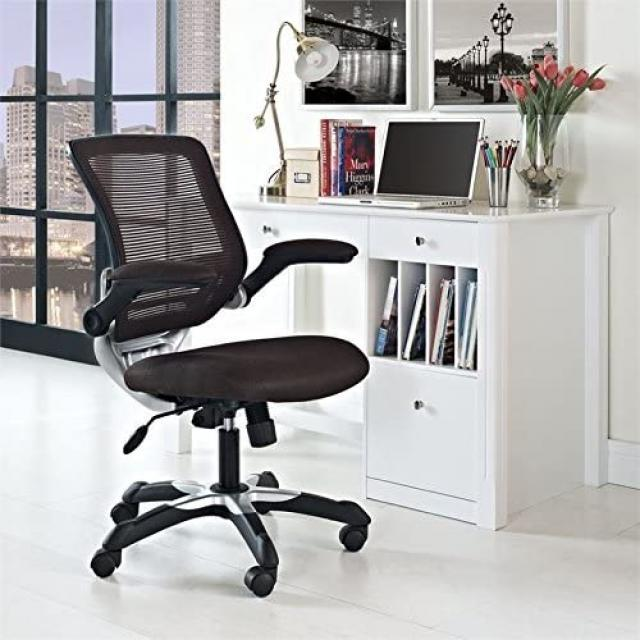chair: (20, 106, 397, 620)
